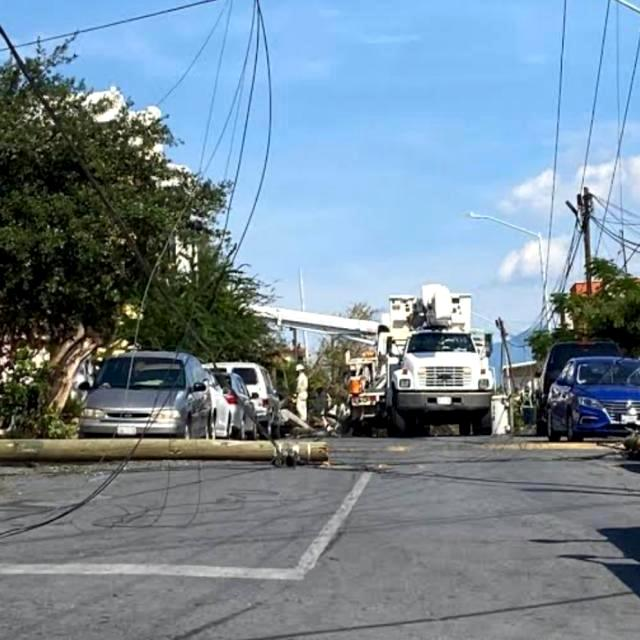Broken Pole: (1, 436, 333, 469)
